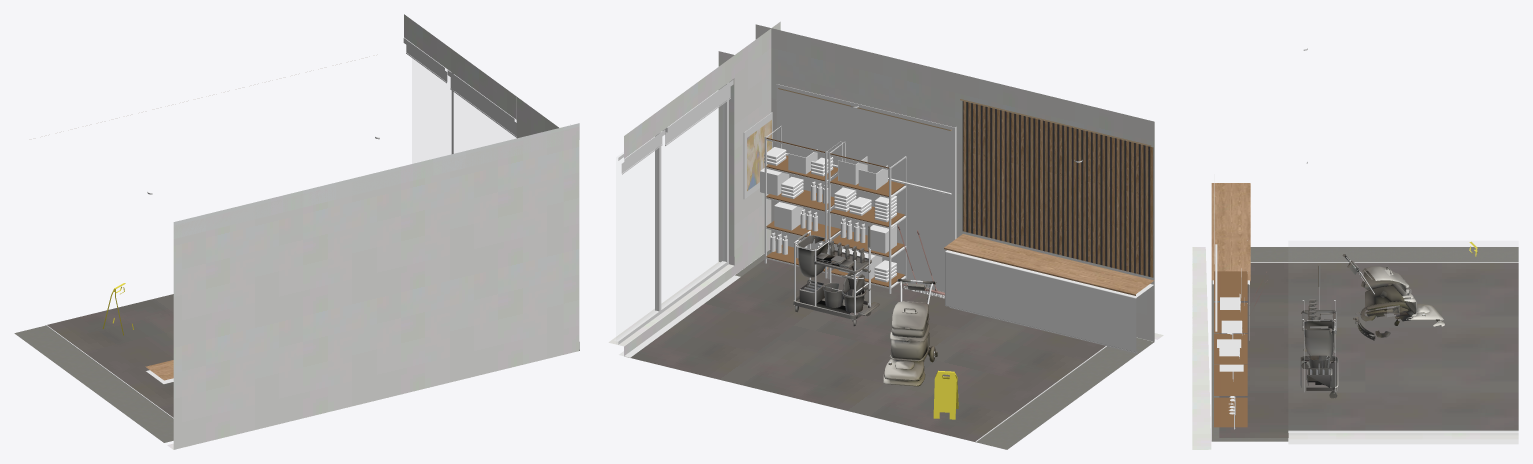
Rendered from z-equipment-lite.full.8ca9f444.glb.
3 renders of one model, left to right at view 1: azimuth 30°, elevation 25°; view 2: azimuth 150°, elevation 25°; view 3: azimuth 270°, elevation 25°, orthographic. The views are drawn at different scales.
Parts seen in each view (by area): view 1: equipment_plaster, equipment_bay_floor, equipment_carpet, equipment_satin; view 2: equipment_satin, equipment_bay_floor, equipment_plaster, equipment_proxy_slat, equipment_fx, equipment_metal_lit, equipment_carpet, equipment_oak, equipment_steel_frame_shelves_01, equipment_art, equipment_WetFloorSign_01, equipment_emit; view 3: equipment_bay_floor, equipment_fx, equipment_carpet, equipment_plaster, equipment_steel_frame_shelves_01, equipment_satin, equipment_oak, equipment_metal_lit.
Part boxes in pixels (x1,y1,x2,y2): equipment_plaster: [167, 14, 579, 449]; equipment_bay_floor: [47, 294, 173, 417]; equipment_carpet: [14, 325, 173, 442]; equipment_satin: [146, 38, 516, 383]; equipment_satin: [614, 79, 1153, 357]; equipment_bay_floor: [630, 259, 1105, 441]; equipment_plaster: [608, 21, 1163, 355]; equipment_proxy_slat: [962, 101, 1153, 277]; equipment_fx: [793, 225, 937, 386]; equipment_metal_lit: [743, 112, 1106, 441]; equipment_carpet: [624, 250, 1154, 449]; equipment_oak: [944, 234, 1154, 295]; equipment_steel_frame_shelves_01: [766, 137, 904, 287]; equipment_art: [747, 120, 771, 190]; equipment_WetFloorSign_01: [933, 370, 958, 419]; equipment_emit: [778, 88, 1151, 146]; equipment_bay_floor: [1219, 263, 1518, 437]; equipment_fx: [1300, 254, 1444, 398]; equipment_carpet: [1211, 247, 1518, 441]; equipment_plaster: [1192, 247, 1518, 449]; equipment_steel_frame_shelves_01: [1214, 271, 1247, 427]; equipment_satin: [1212, 48, 1518, 444]; equipment_oak: [1211, 183, 1250, 281]; equipment_metal_lit: [1215, 240, 1518, 391].
Bounding box in the file's own units: 6.25 × 3.35 × 4.25.
Materials: 14 (7 with a texture image).
